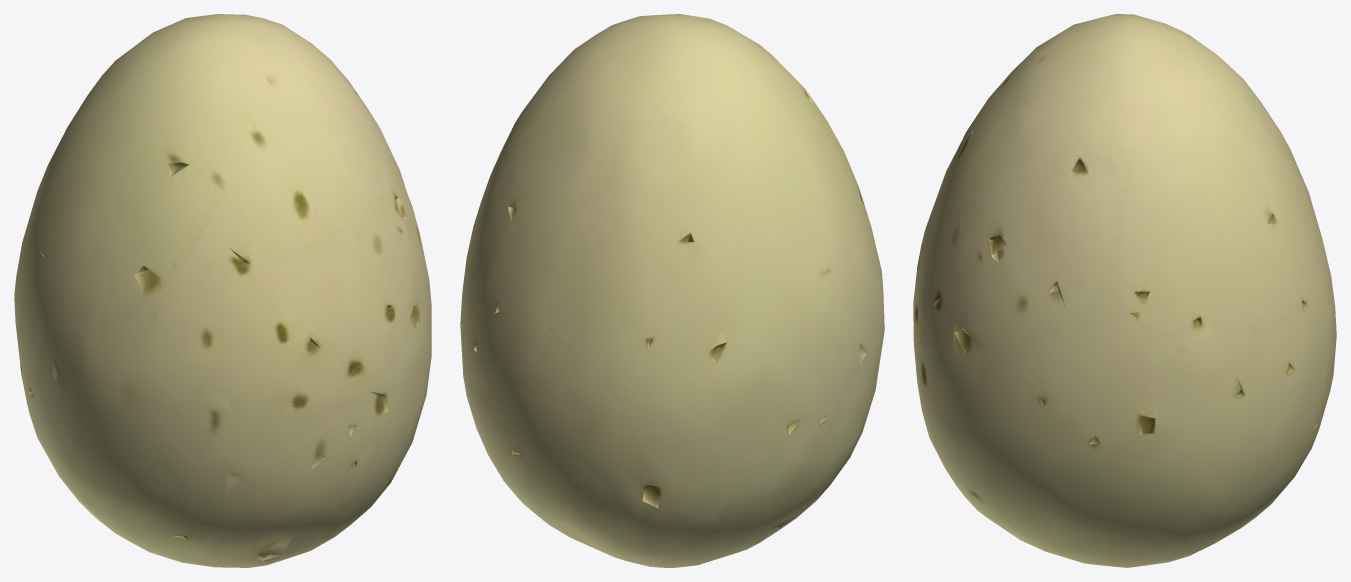
The model's file is dinoEgg.glb.
The picture shows the model from 3 angles, left to right: view 1: azimuth 30°, elevation 25°; view 2: azimuth 150°, elevation 25°; view 3: azimuth 270°, elevation 25°; orthographic projection.
Visible parts, largest first — view 1: model; view 2: model; view 3: model.
Part boxes in pixels (bbox=[...]): model: bbox=[14, 14, 431, 567]; model: bbox=[460, 14, 884, 567]; model: bbox=[913, 14, 1336, 567].
Size of the model in its own units: 1.37 by 1.9 by 1.4.
1 material, 1 textured.
